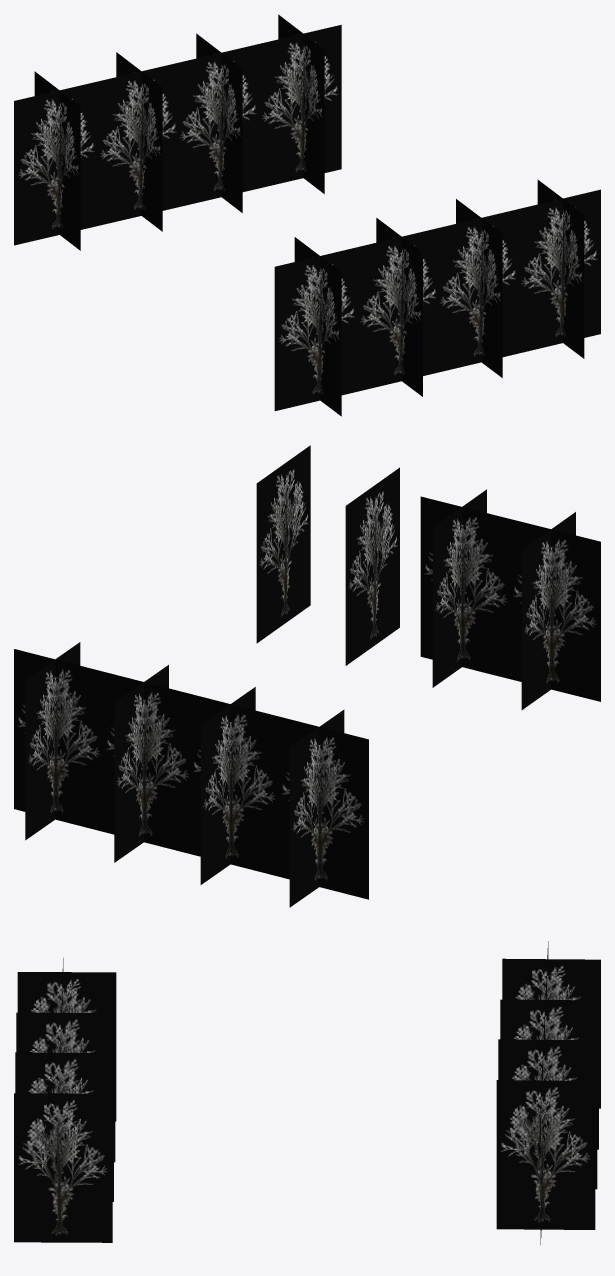
File: tree.obj
3 renders of one model, top to bottom at view 1: azimuth 30°, elevation 25°; view 2: azimuth 150°, elevation 25°; view 3: azimuth 270°, elevation 25°, orthographic. The views are drawn at different scales.
Visible parts, largest first — view 1: Plane.047_Plane.049, Plane.024_Plane.026, Plane.020_Plane.022, Plane.027_Plane.029, Plane.032_Plane.034, Plane.044_Plane.046, Plane.035_Plane.037, Plane.023_Plane.025, Plane.046_Plane.048, Plane.034_Plane.036, Plane.025_Plane.027, Plane.045_Plane.047 (+4 smaller); view 2: Plane.044_Plane.046, Plane.020_Plane.022, Plane.023_Plane.025, Plane.024_Plane.026, Plane.047_Plane.049, Plane.027_Plane.029, Plane.034_Plane.036, Plane.033_Plane.035, Plane.021_Plane.023, Plane.025_Plane.027, Plane.026_Plane.028, Plane.046_Plane.048 (+2 smaller); view 3: Plane.021_Plane.023, Plane.034_Plane.036, Plane.022_Plane.024, Plane.033_Plane.035, Plane.046_Plane.048, Plane.025_Plane.027, Plane.045_Plane.047, Plane.026_Plane.028.
Boxes of the visible parts, <box> form: Plane.047_Plane.049: <box>274,247,358,410</box>; Plane.024_Plane.026: <box>14,81,97,245</box>; Plane.020_Plane.022: <box>257,25,341,188</box>; Plane.027_Plane.029: <box>97,62,179,225</box>; Plane.032_Plane.034: <box>436,209,519,371</box>; Plane.044_Plane.046: <box>356,228,439,391</box>; Plane.035_Plane.037: <box>519,189,600,353</box>; Plane.023_Plane.025: <box>179,44,259,206</box>; Plane.046_Plane.048: <box>294,237,341,416</box>; Plane.034_Plane.036: <box>537,180,584,358</box>; Plane.025_Plane.027: <box>34,71,80,250</box>; Plane.045_Plane.047: <box>376,218,422,396</box>; Plane.044_Plane.046: <box>420,496,511,679</box>; Plane.020_Plane.022: <box>14,649,104,831</box>; Plane.023_Plane.025: <box>104,672,193,854</box>; Plane.024_Plane.026: <box>280,717,368,899</box>; Plane.047_Plane.049: <box>512,519,600,701</box>; Plane.027_Plane.029: <box>193,695,279,876</box>; Plane.034_Plane.036: <box>256,445,310,643</box>; Plane.033_Plane.035: <box>345,467,399,665</box>; Plane.021_Plane.023: <box>25,642,80,840</box>; Plane.025_Plane.027: <box>289,709,344,907</box>; Plane.026_Plane.028: <box>200,687,255,884</box>; Plane.046_Plane.048: <box>521,512,575,709</box>; Plane.021_Plane.023: <box>496,1080,595,1229</box>; Plane.034_Plane.036: <box>14,1093,112,1242</box>; Plane.022_Plane.024: <box>498,1039,597,1189</box>; Plane.033_Plane.035: <box>15,1052,113,1201</box>; Plane.046_Plane.048: <box>17,972,116,1121</box>; Plane.025_Plane.027: <box>502,958,600,1108</box>; Plane.045_Plane.047: <box>16,1012,115,1162</box>; Plane.026_Plane.028: <box>500,999,598,1149</box>.
Bounding box in the file's own units: 25.31 × 10 × 35.67.
16 materials, 16 textured.
